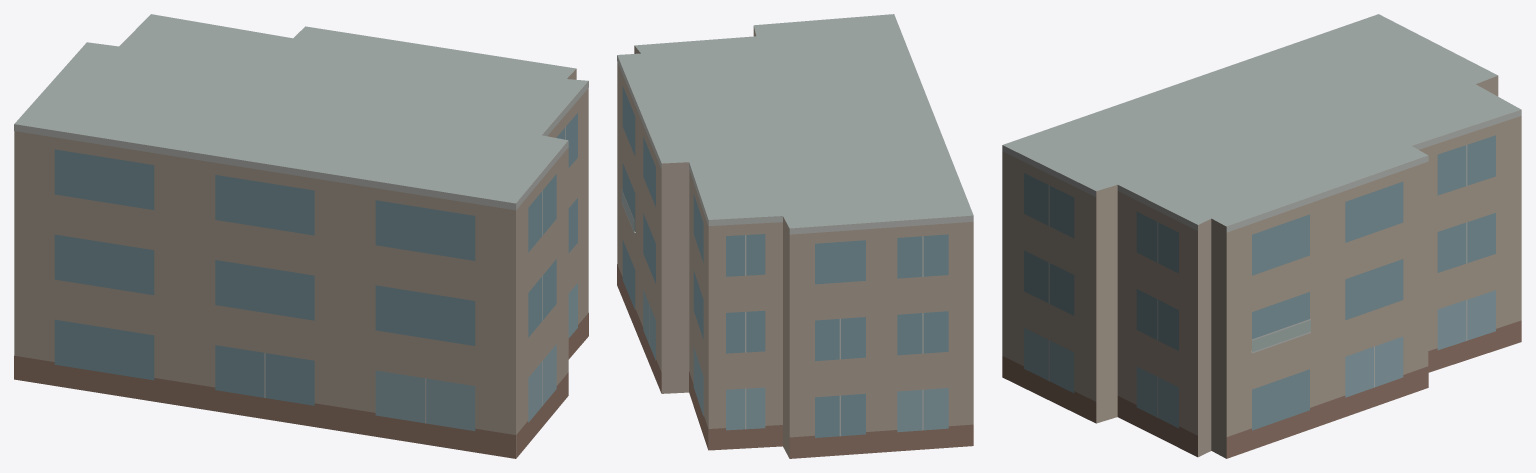
The model's file is survey-upis-32512935.glb.
The picture shows the model from 3 angles, left to right: view 1: azimuth 30°, elevation 25°; view 2: azimuth 150°, elevation 25°; view 3: azimuth 270°, elevation 25°; orthographic projection. The views are drawn at different scales.
Visible parts, largest first — view 1: survey-upis-32512935.tmp; view 2: survey-upis-32512935.tmp; view 3: survey-upis-32512935.tmp.
Part boxes in pixels (box(x1,y1,x2,y2)): survey-upis-32512935.tmp: box(14, 14, 588, 458); survey-upis-32512935.tmp: box(617, 14, 973, 458); survey-upis-32512935.tmp: box(1002, 14, 1521, 458).
Size of the model in its own units: 17.96 by 9.15 by 18.55.
